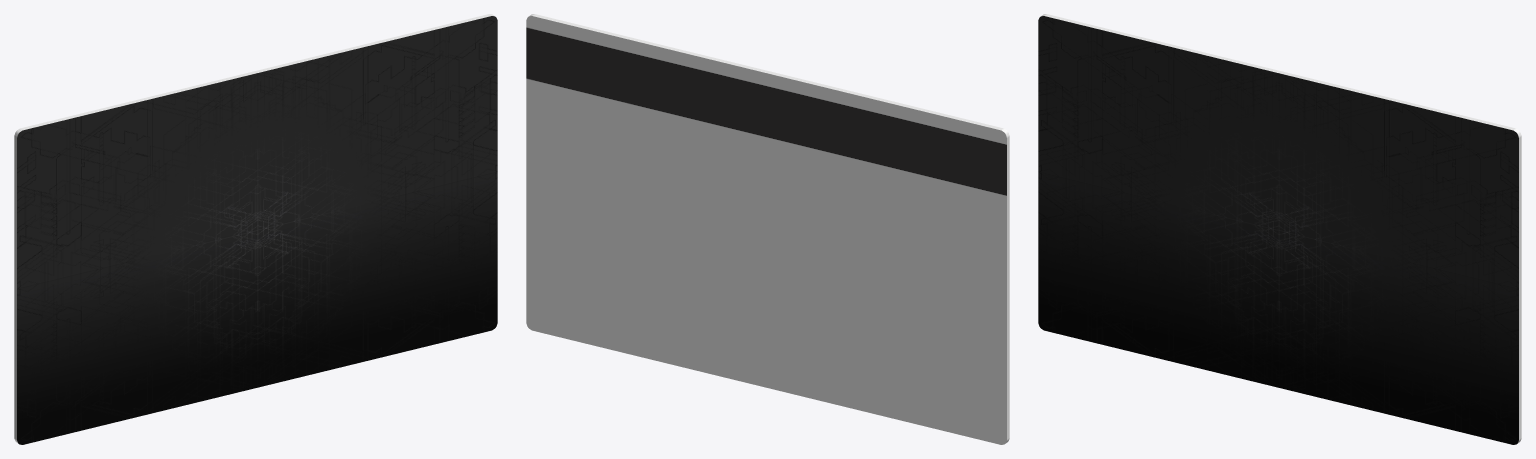
The model's file is crad.glb.
The picture shows the model from 3 angles, left to right: view 1: azimuth 30°, elevation 25°; view 2: azimuth 150°, elevation 25°; view 3: azimuth 330°, elevation 25°; orthographic projection.
Visible parts, largest first — view 1: ChipcardOBJ; view 2: ChipcardOBJ; view 3: ChipcardOBJ.
Boxes of the visible parts, <box> form: ChipcardOBJ: <box>14,14,497,444</box>; ChipcardOBJ: <box>526,14,1009,444</box>; ChipcardOBJ: <box>1038,14,1521,444</box>.
Size of the model in its own units: 0.0856 by 0.0535 by 0.000839.
3 materials, 2 textured.
